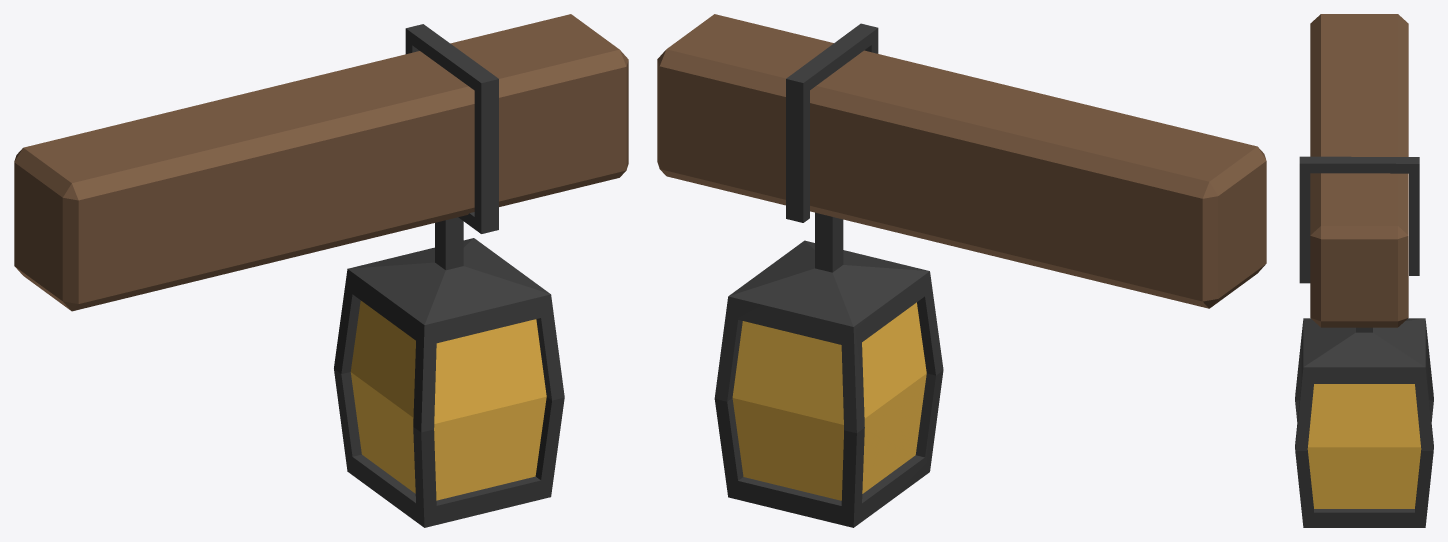
File: house_lamp.fbx
3 views of the same model, side by side, from view 1: azimuth 30°, elevation 25°; view 2: azimuth 150°, elevation 25°; view 3: azimuth 270°, elevation 25° (orthographic). The views are drawn at different scales.
Parts seen in each view (by area): view 1: House_Lamp_Base, House_Lamp_Lamp; view 2: House_Lamp_Base, House_Lamp_Lamp; view 3: House_Lamp_Lamp, House_Lamp_Base.
Boxes of the visible parts, x1,y1,x2,y2 form: House_Lamp_Base: [14, 14, 628, 311]; House_Lamp_Lamp: [334, 24, 564, 527]; House_Lamp_Base: [657, 14, 1266, 308]; House_Lamp_Lamp: [714, 23, 943, 527]; House_Lamp_Lamp: [1295, 156, 1433, 527]; House_Lamp_Base: [1310, 14, 1408, 327].
Size of the model in its own units: 96.96 by 70.91 by 26.01.
